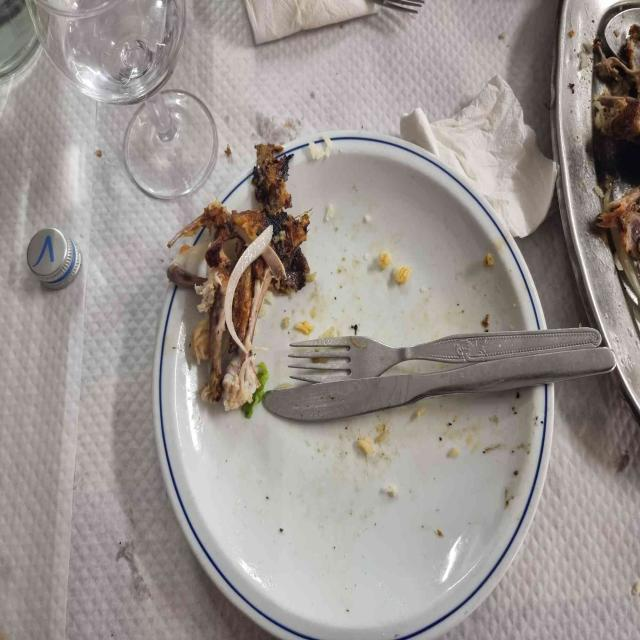fork: (290, 328, 601, 379)
garbage: (179, 144, 310, 410)
knife: (264, 347, 615, 422)
plate: (153, 131, 554, 640)
